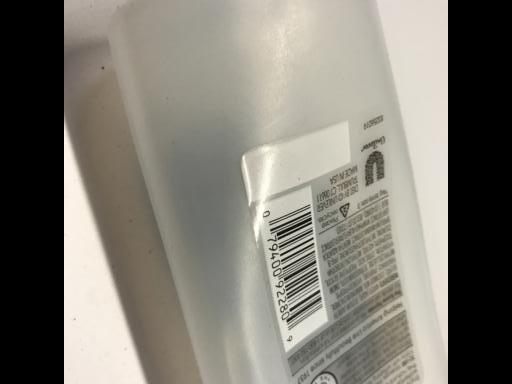plastic: (143, 4, 422, 380), (241, 48, 422, 381)
